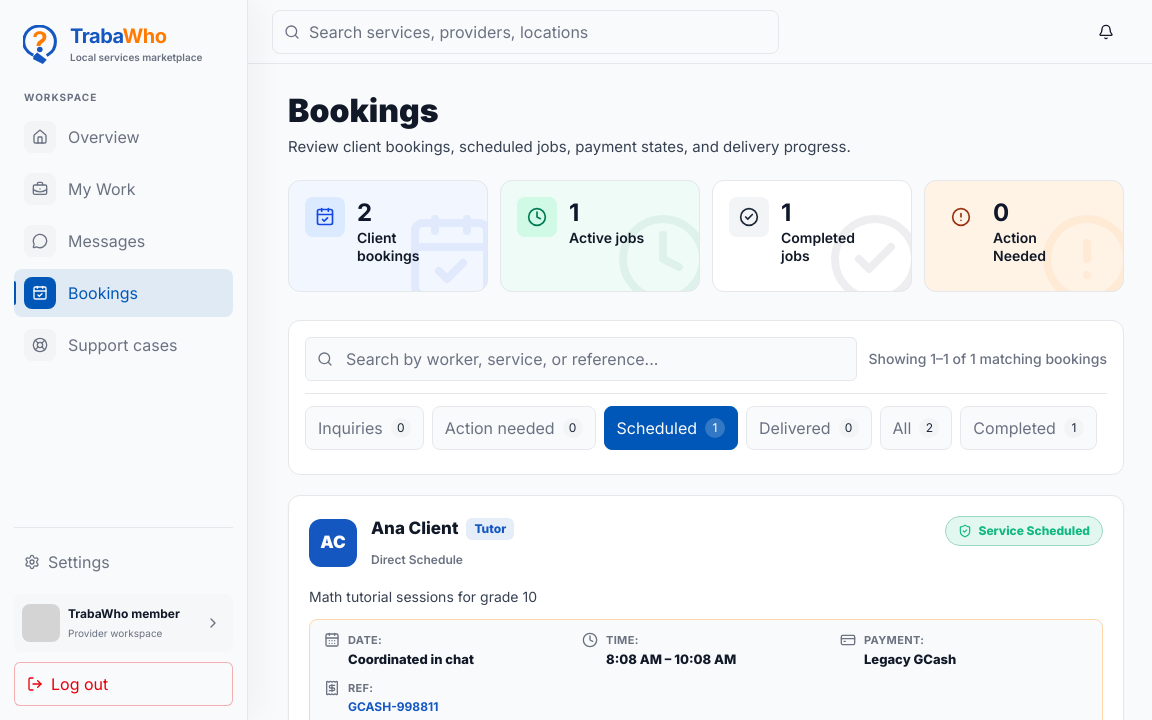
MyBookings Redesign Component › shows client bookings by default in the provider booking workspace
This screenshot has width=1152, height=720.
Expected: the heading "Bookings" is shown, [288,91,439,130]
Expected: the heading "Ana Client Tutor" is shown, [371,516,514,542]
Click the button with aria-label "All, 2".
click(916, 428)  # box [880,406,952,450]
(page scrolled)
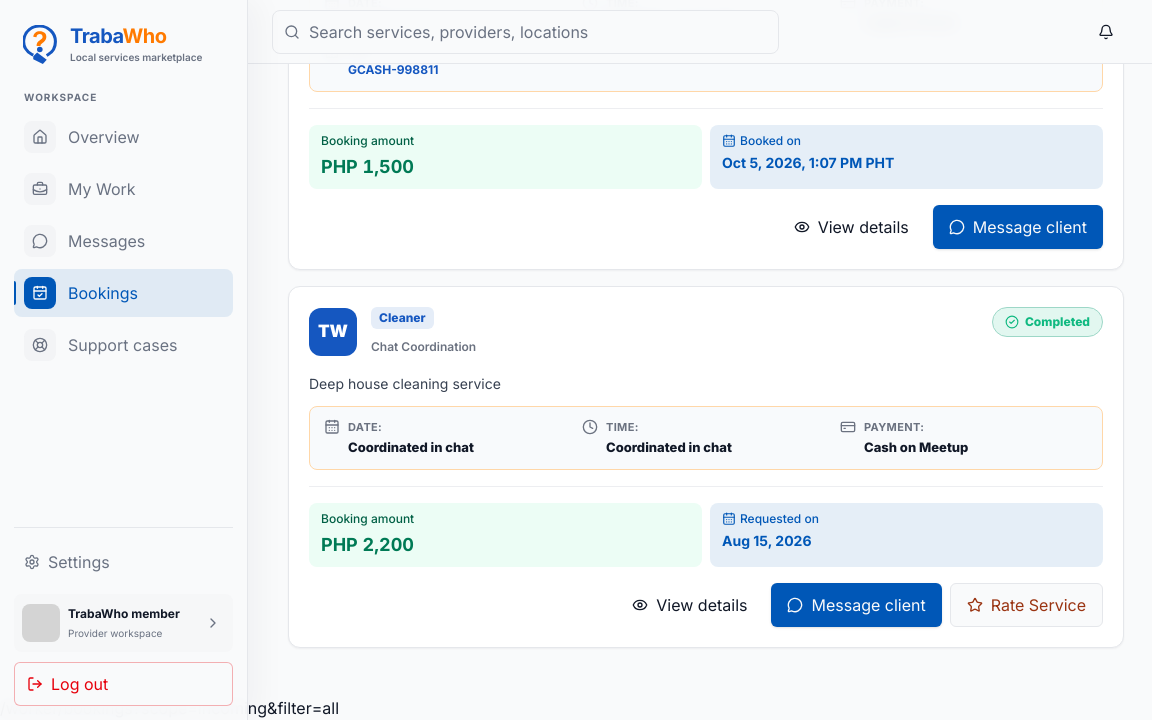
Result: the element with test id "booking-card-b2" is shown at [288,286,1124,648]
Result: the text with test id "location-probe" shows "filter=all" at [0,698,339,718]
